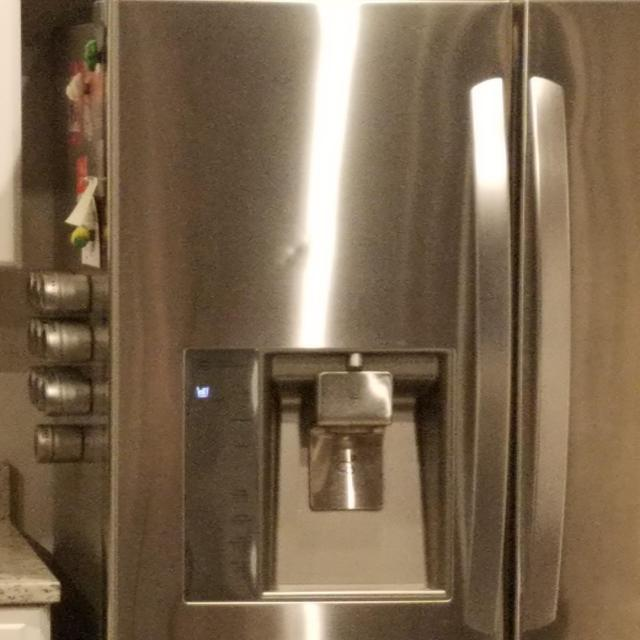dents: (269, 236, 337, 286)
